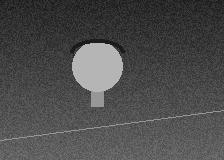no_helmet: (72, 39, 122, 96)
